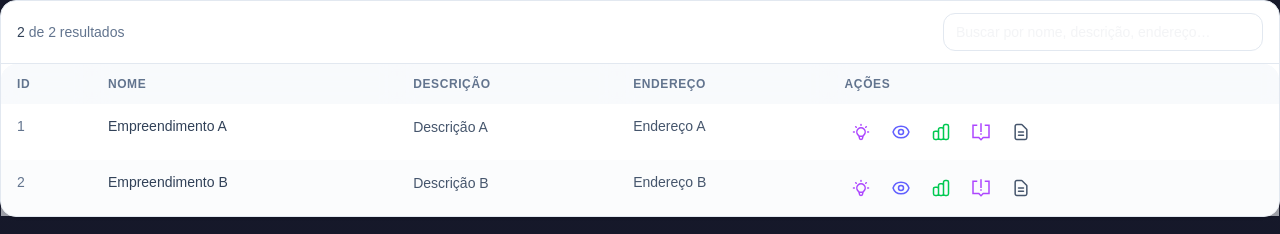
DevelopmentsTable › deve exibir mensagem quando não há resultados na busca
The width and height of the screenshot is (1280, 234).
Type "XYZ123" into the field with placeholder "Buscar por nome, descrição, endereço…".
click(1103, 32); type("XYZ123")  # box [943, 13, 1263, 51]
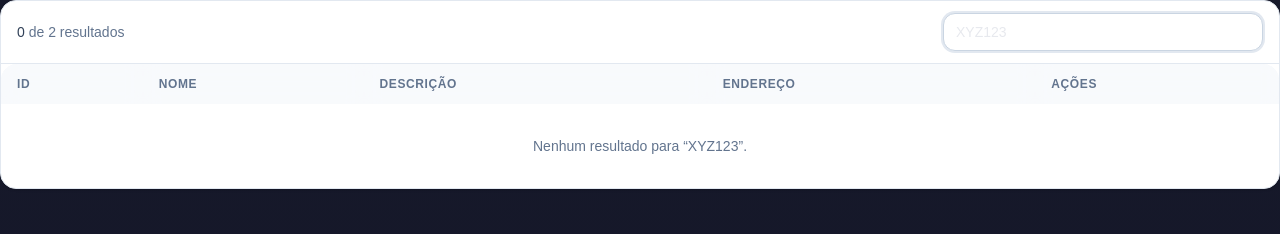
Expected: the text "Nenhum resultado para “XYZ123”." is shown, [1, 104, 1279, 188]
